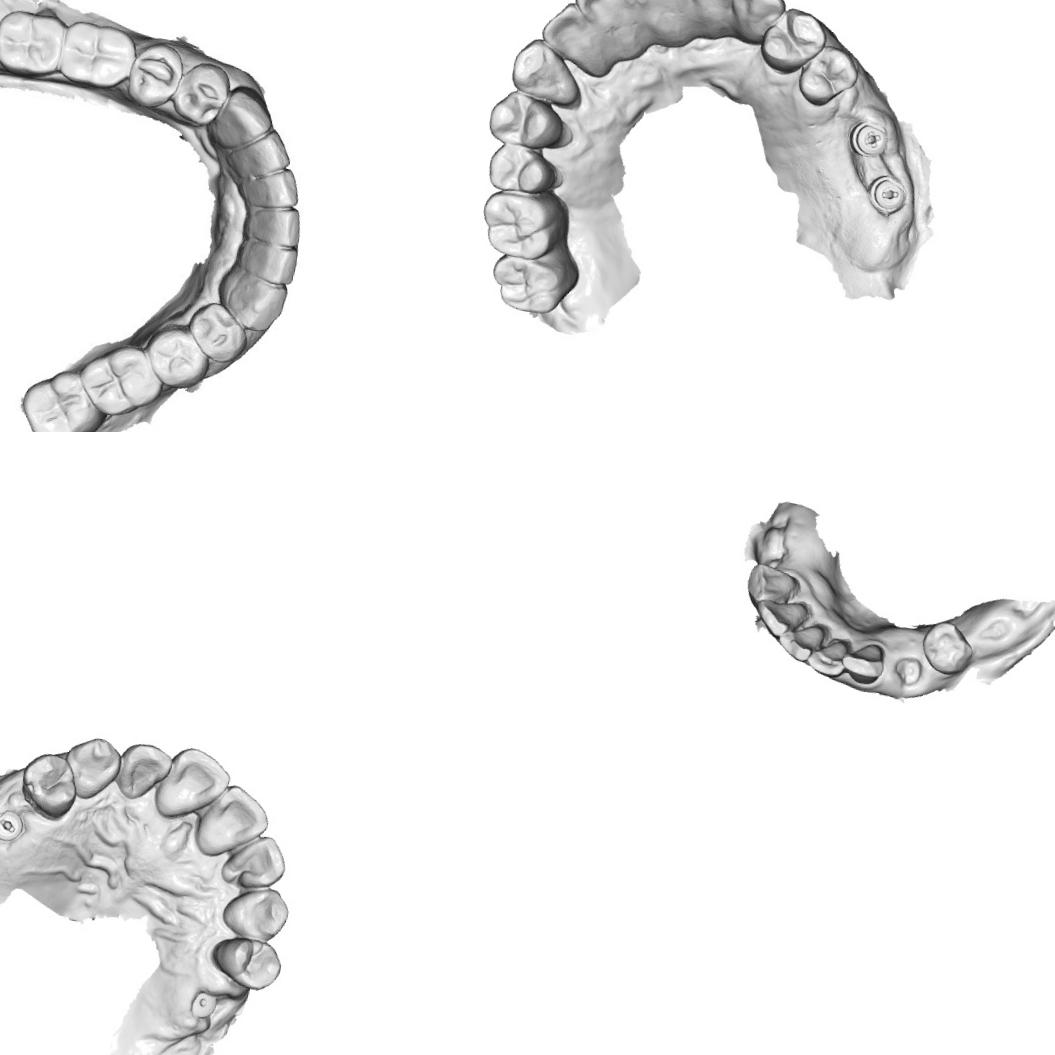canine: (505, 34, 584, 112), (218, 880, 293, 944), (60, 732, 125, 805), (212, 84, 276, 158), (222, 272, 286, 338), (721, 0, 791, 50), (744, 560, 803, 608)
implant: (186, 988, 219, 1020)
implant_minus: (864, 171, 912, 218), (0, 806, 27, 845)
implant_plus: (845, 114, 893, 164)
incisor: (190, 779, 274, 865), (150, 742, 234, 827), (536, 0, 610, 72), (218, 828, 293, 894), (110, 738, 175, 804), (566, 0, 642, 49), (243, 203, 307, 253), (238, 162, 303, 210), (618, 0, 695, 37), (231, 130, 291, 177), (752, 596, 810, 641), (837, 638, 888, 688), (240, 242, 298, 285), (776, 619, 828, 665), (804, 635, 850, 680), (677, 0, 741, 31)
molar: (474, 184, 576, 266), (485, 248, 583, 322), (79, 342, 162, 423), (59, 20, 137, 95), (0, 1, 69, 81), (18, 365, 96, 432)
premolar: (756, 2, 832, 81), (484, 86, 572, 154), (484, 137, 572, 202), (794, 37, 864, 113), (15, 748, 84, 822), (206, 932, 288, 994), (184, 300, 250, 368), (147, 322, 209, 390), (917, 618, 977, 679), (127, 42, 182, 106), (177, 59, 227, 125)
